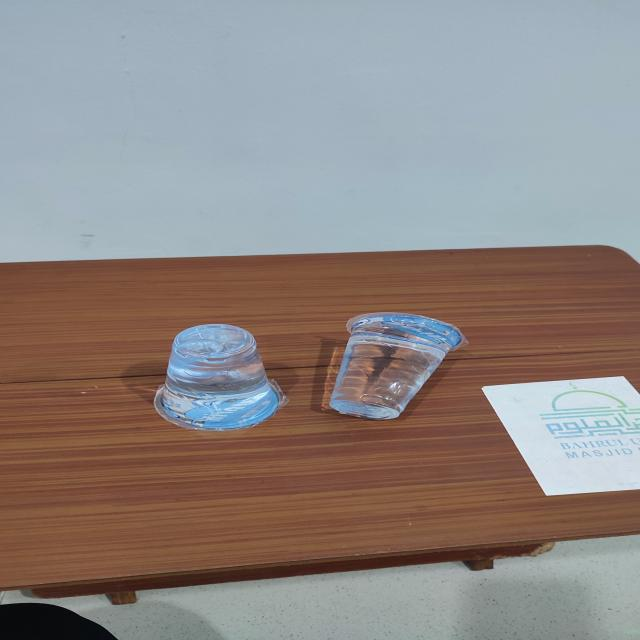air gelas: (312, 309, 476, 423), (140, 317, 285, 435)
